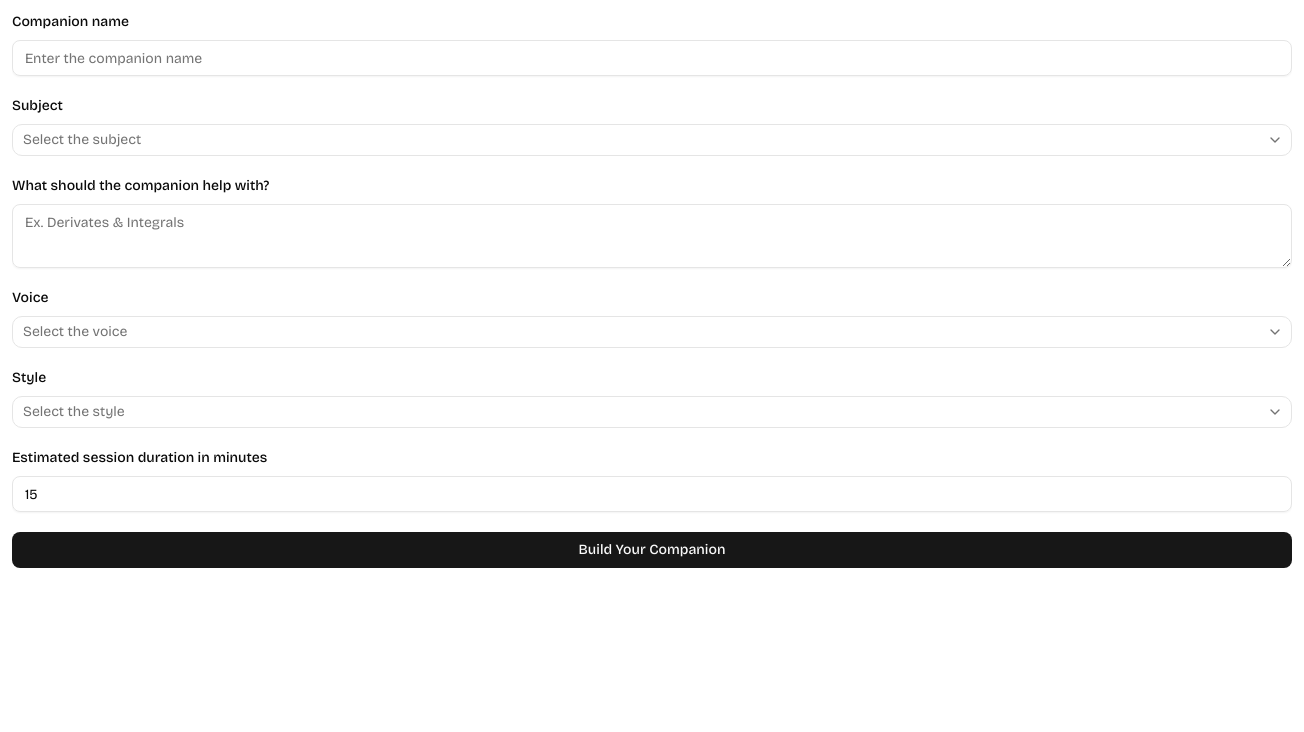
it: CompanionForm › rechaza una duración menor a 1
In the field labelled "Companion name": (652, 58) [12,40,1292,76], type "Codey"
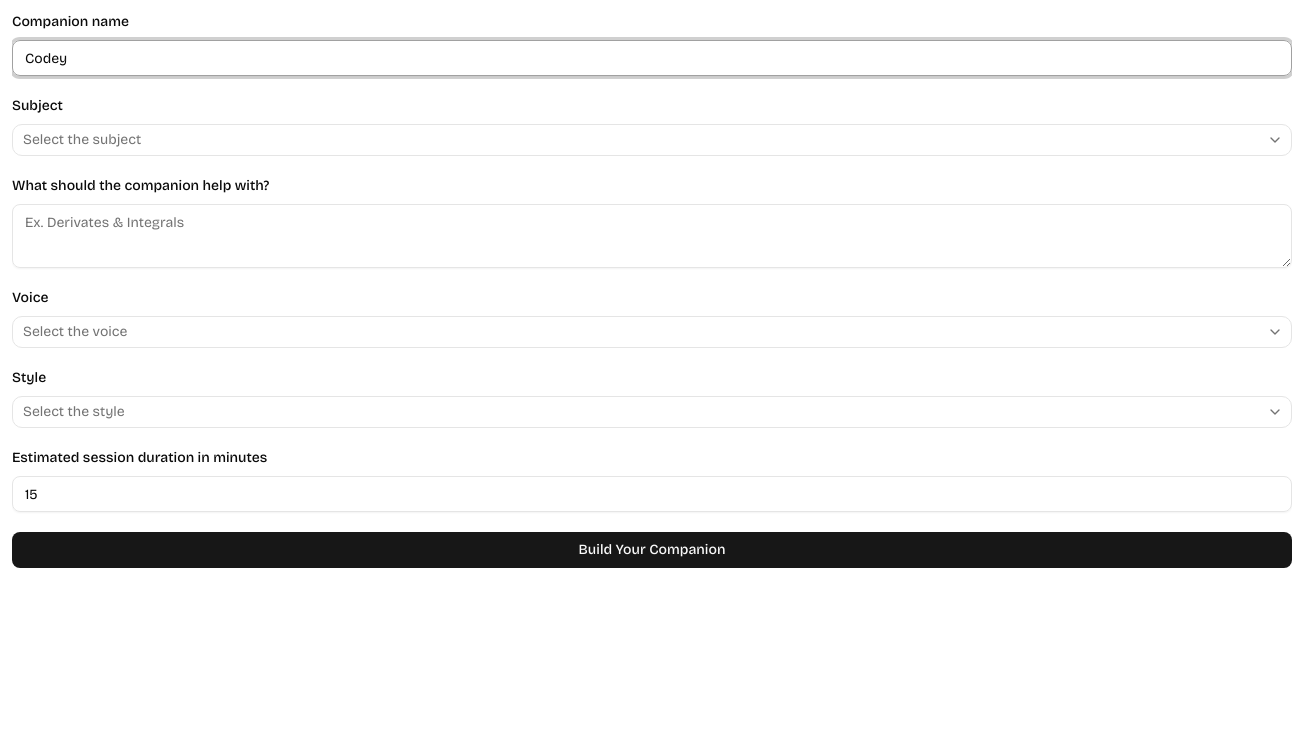
In the number field labelled "Estimated session duration in minutes": (652, 494) [12,476,1292,512], type "0"
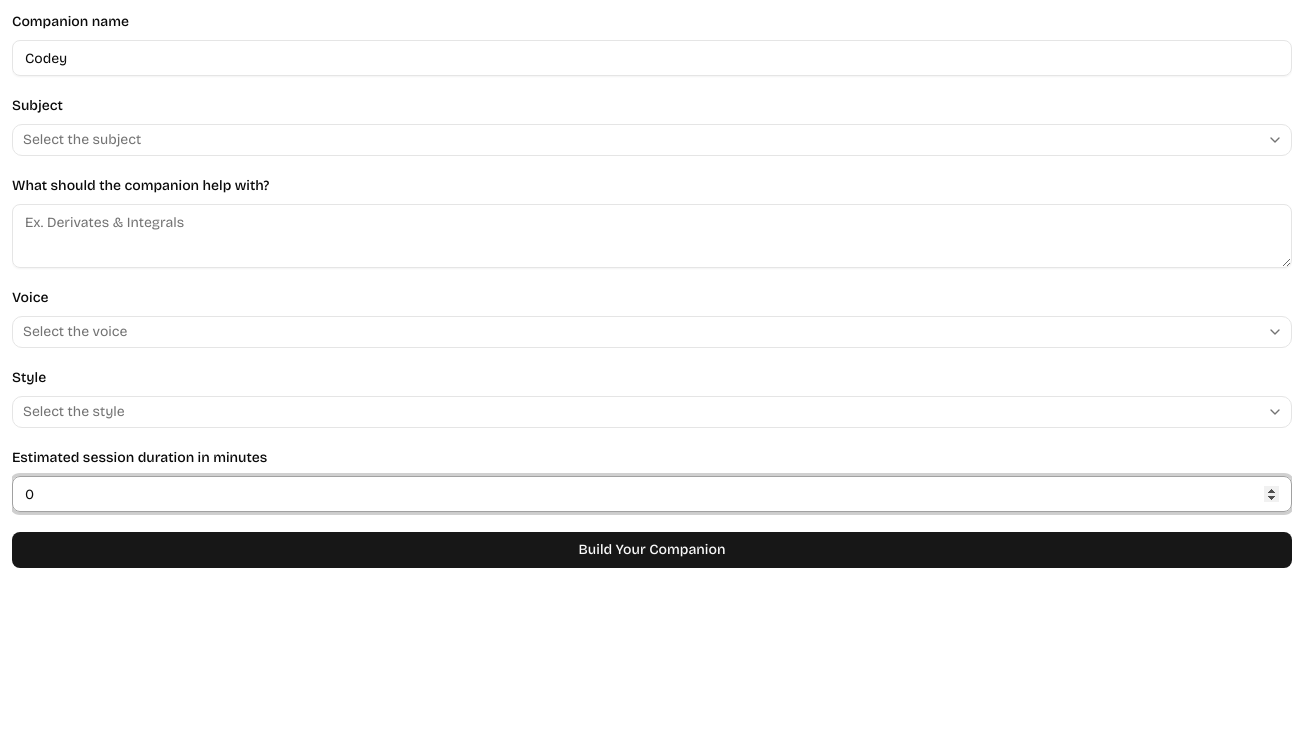
Click the button "Build Your Companion": (652, 550) [12,532,1292,568]
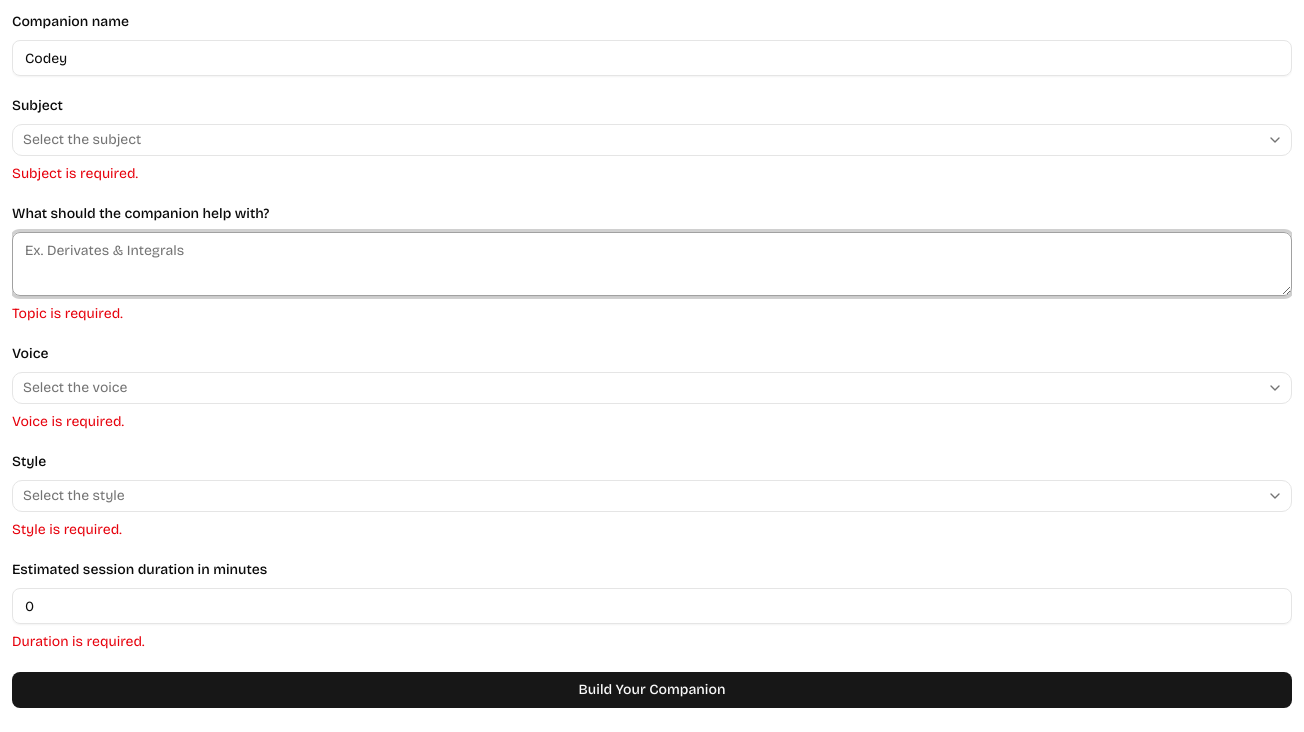
Expected: the text "Duration is required." is shown, [12,633,145,650]
